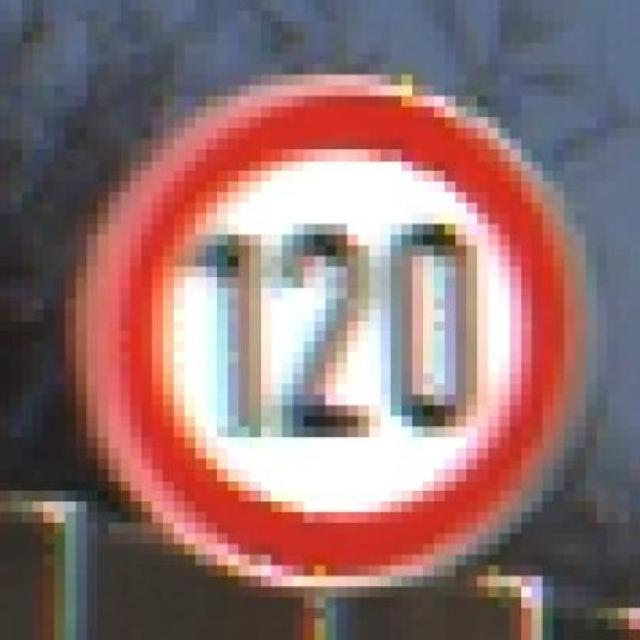forb_speed_over_120: (99, 87, 576, 588)
